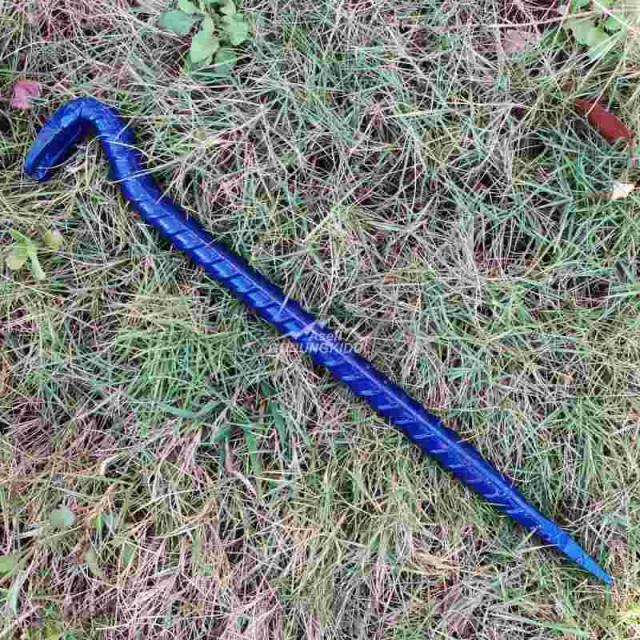Linggis: (22, 97, 616, 585)
